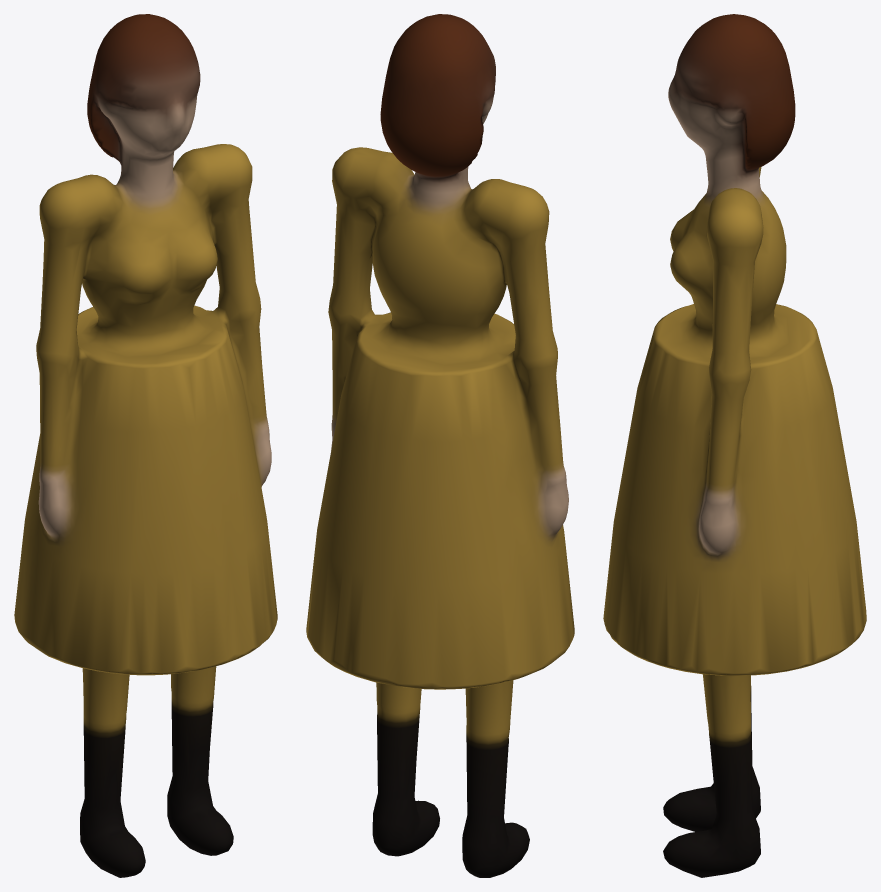
File: lumiere-npc-patron-f2.glb
The picture shows the model from 3 angles, left to right: view 1: azimuth 30°, elevation 25°; view 2: azimuth 150°, elevation 25°; view 3: azimuth 270°, elevation 25°; orthographic projection. The views are drawn at different scales.
Parts seen in each view (by area): view 1: lumiere-npc-patron-f2_LOD0; view 2: lumiere-npc-patron-f2_LOD0; view 3: lumiere-npc-patron-f2_LOD0.
Part boxes in pixels (left/top/right/bottom): lumiere-npc-patron-f2_LOD0: left=14, top=14, right=277, bottom=877; lumiere-npc-patron-f2_LOD0: left=306, top=14, right=574, bottom=877; lumiere-npc-patron-f2_LOD0: left=603, top=14, right=866, bottom=877.
Size of what is drawn, in the model's own units: 0.4713 by 1.65 by 0.4715.
